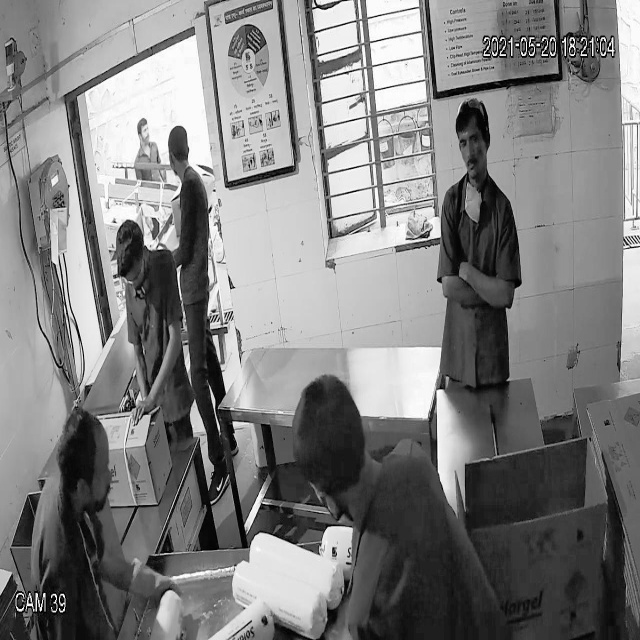Sin_gafas: (453, 127, 489, 154)
